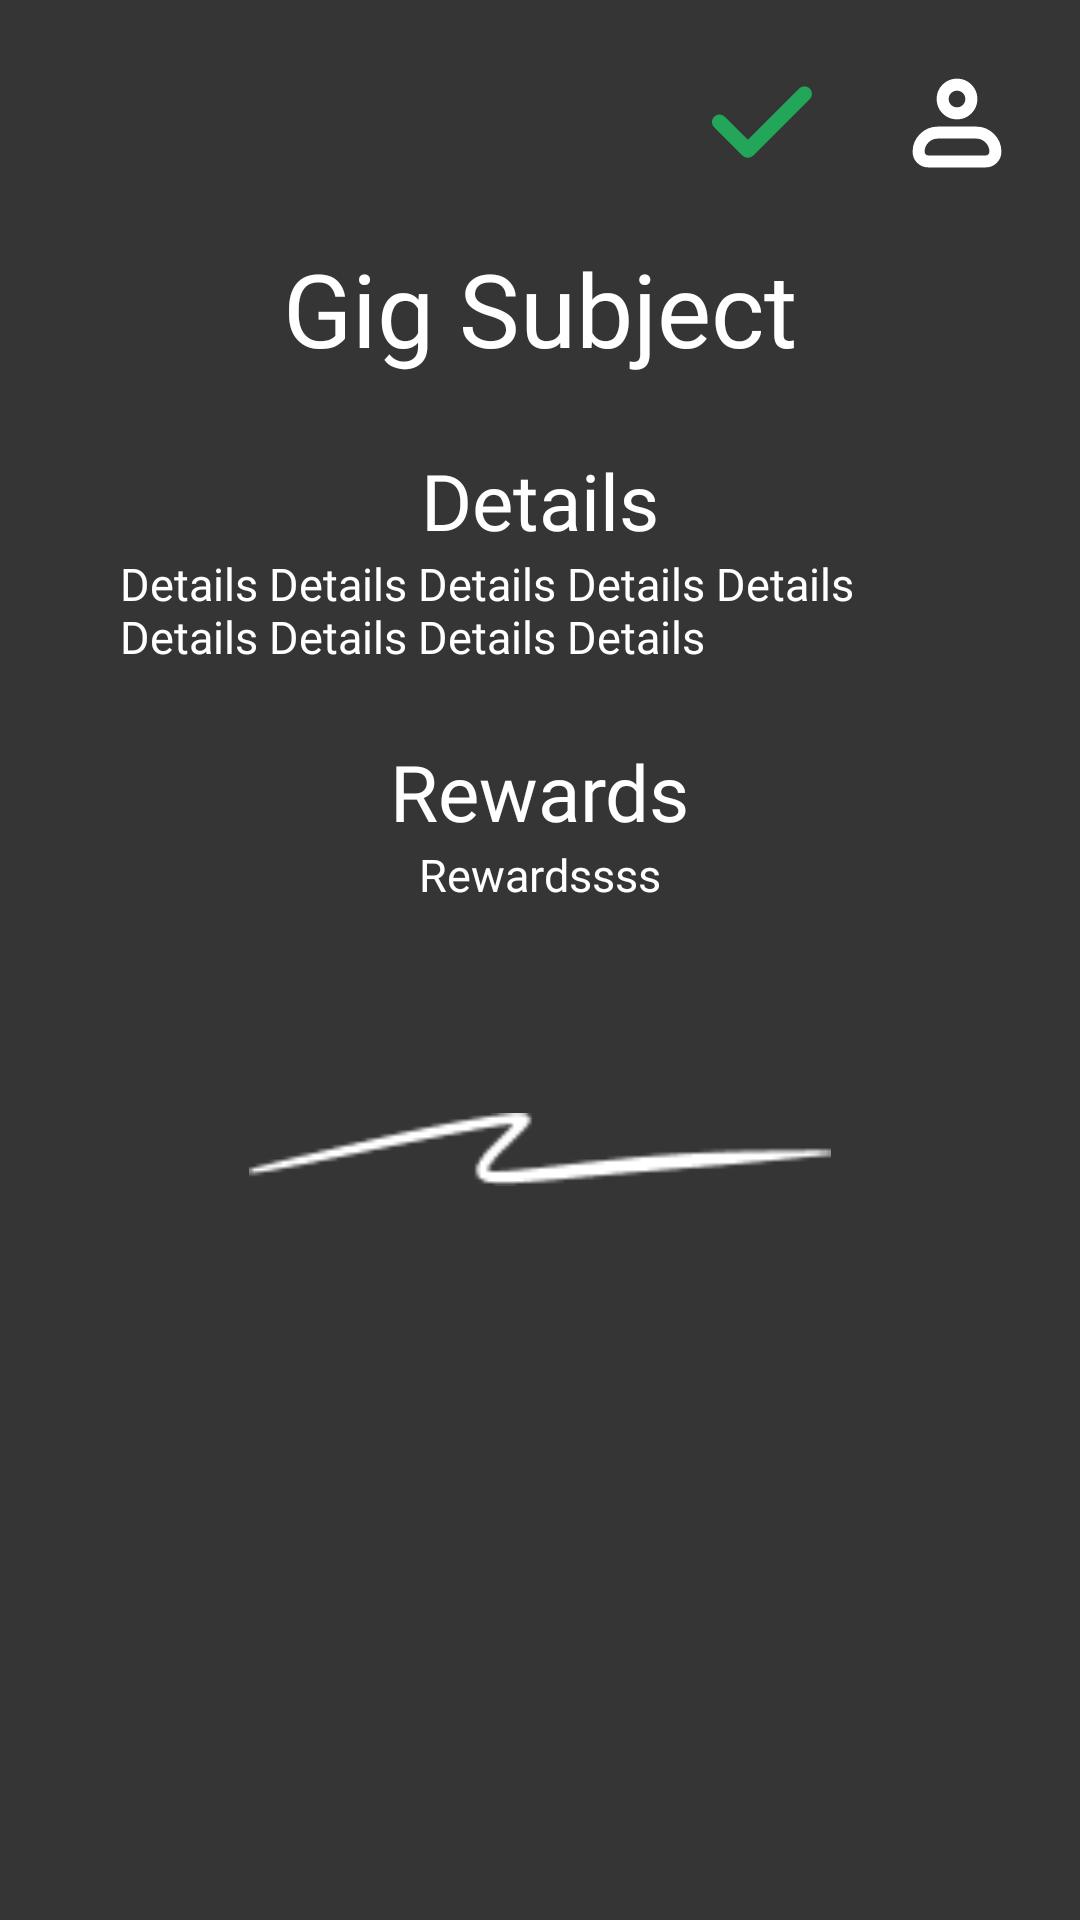

Where icons sit on this 1080 × 1920 app screen, as (x1, y1, x2, y2):
check: (712, 86, 812, 158)
